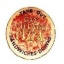pizza: (5, 7, 56, 61)
